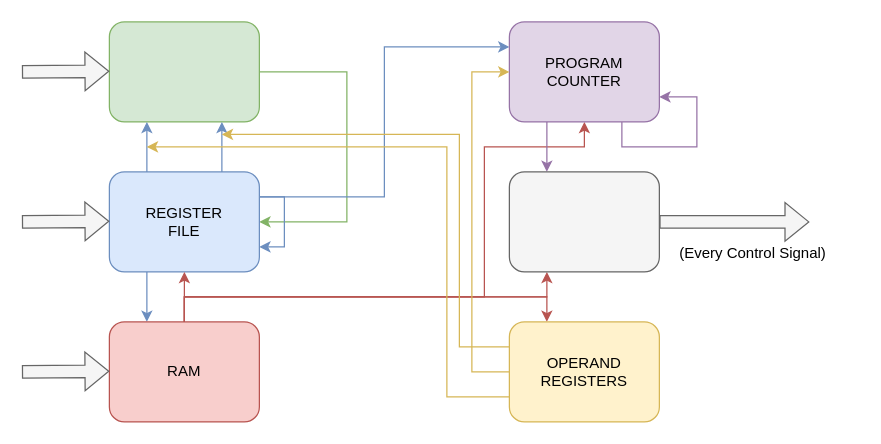
This 881x444 diagram has some shape labels left out. Each missing label, with the box of its shape:
ALU: (108, 21, 259, 122)
INSTRUCTION REGISTER AND CONTROL LOGIC: (508, 171, 659, 272)
